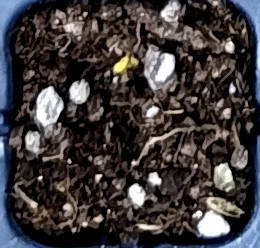pepper seed: (42, 17, 181, 93)
